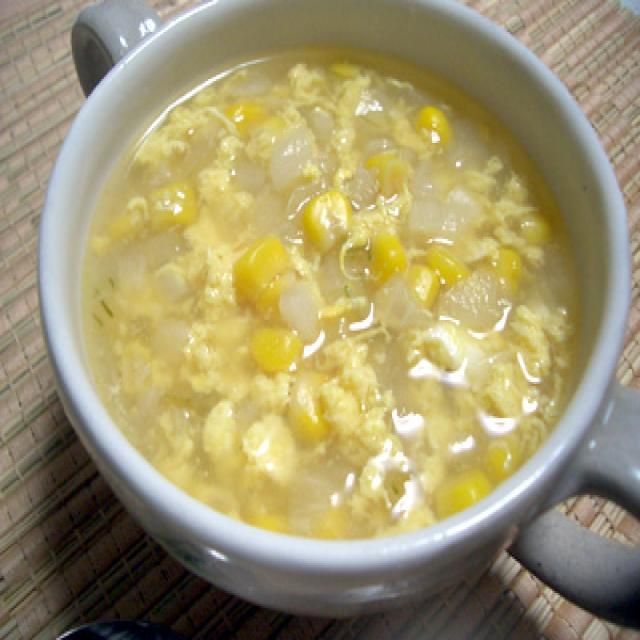汤锅炖物: (27, 0, 640, 631)
